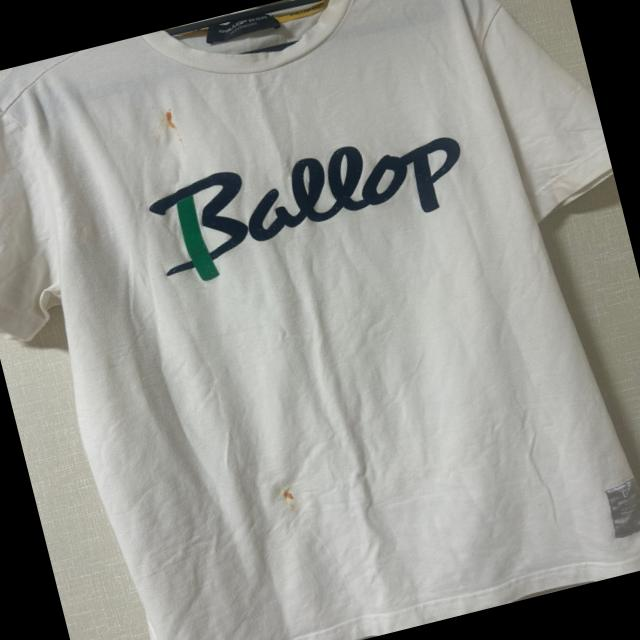stain: (154, 100, 186, 146), (274, 480, 310, 506)
